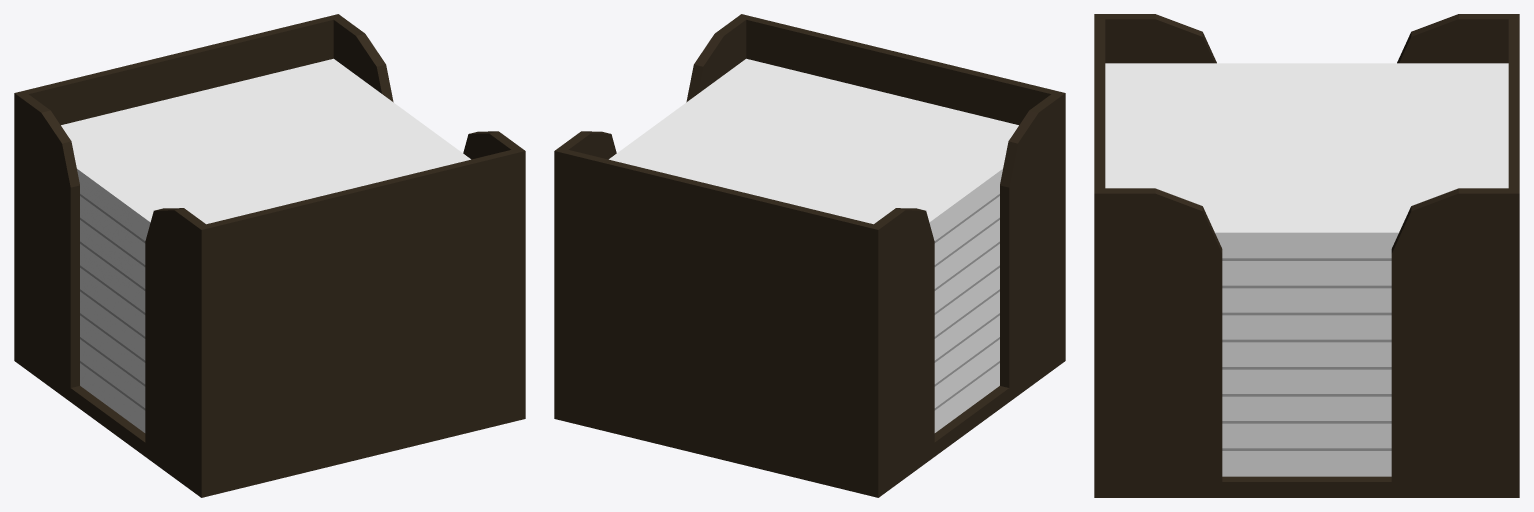
The model's file is Noteblock.fbx.
3 renders of one model, left to right at view 1: azimuth 30°, elevation 25°; view 2: azimuth 150°, elevation 25°; view 3: azimuth 270°, elevation 25°, orthographic. The views are drawn at different scales.
Visible parts, largest first — view 1: Noteblock; view 2: Noteblock; view 3: Noteblock.
Boxes of the visible parts, x1=… form: Noteblock: x1=14, y1=14, x2=525, y2=497; Noteblock: x1=554, y1=14, x2=1065, y2=497; Noteblock: x1=1094, y1=14, x2=1519, y2=497.
Bounding box in the file's own units: 12.03 × 9.5 × 12.03.
